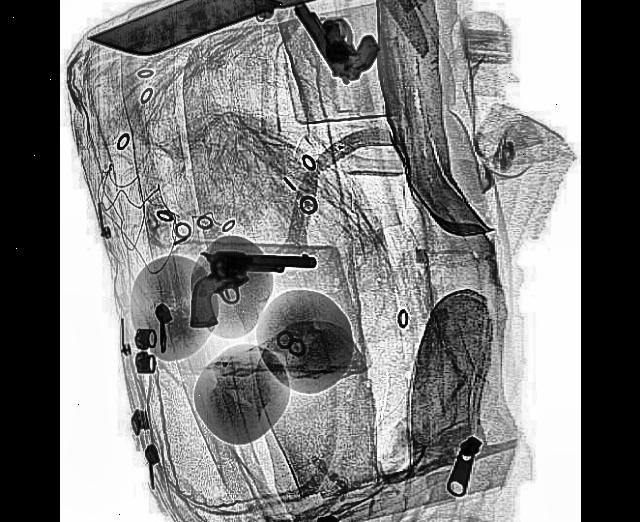Gun: (190, 252, 316, 328), (292, 0, 384, 94)
Knife: (85, 0, 384, 76)
